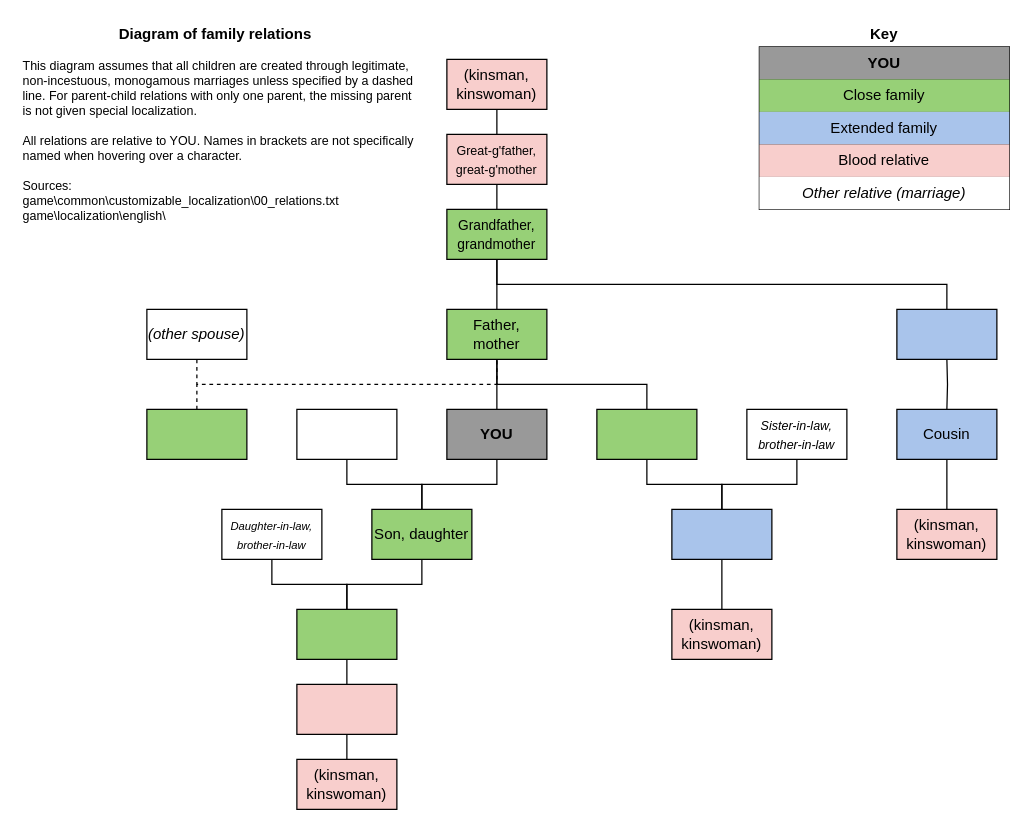
This 1031x831 diagram has some shape labels left out. Here are the shapes that lost their labels. From the top down, the centre of each, then its label:
At (946,333): "Uncle, aunt".
At (196,433): "Half-brother, half-sister".
At (346,433): "Wife, husband".
At (646,433): "Brother, sister".
At (721,533): "Nephew, niece".
At (346,633): "Grandson, granddaughter".
At (346,708): "Great-grandson, great-g'daughter".
